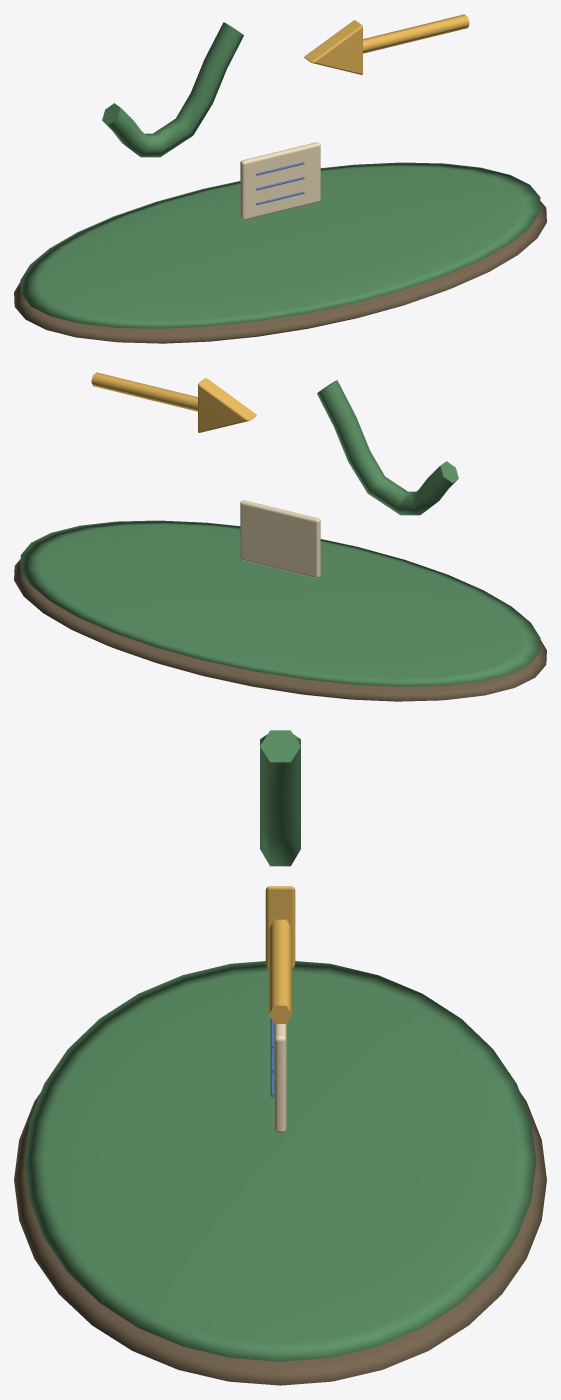
Rendered from complete-first-then-after.glb.
3 renders of one model, top to bottom at view 1: azimuth 30°, elevation 25°; view 2: azimuth 150°, elevation 25°; view 3: azimuth 270°, elevation 25°, orthographic. The views are drawn at different scales.
Visible parts, largest first — view 1: complete-first-then-after_surface_01, complete-first-then-after_surface_00, complete-first-then-after_surface_03, complete-first-then-after_surface_02, complete-first-then-after_surface_04; view 2: complete-first-then-after_surface_01, complete-first-then-after_surface_00, complete-first-then-after_surface_03, complete-first-then-after_surface_02; view 3: complete-first-then-after_surface_01, complete-first-then-after_surface_00, complete-first-then-after_surface_02, complete-first-then-after_surface_03.
Boxes of the visible parts, x1,y1,x2,y2 form: complete-first-then-after_surface_01: (20,22,540,328); complete-first-then-after_surface_00: (14,201,546,343); complete-first-then-after_surface_03: (240,142,320,220); complete-first-then-after_surface_02: (304,14,469,74); complete-first-then-after_surface_04: (256,162,304,204); complete-first-then-after_surface_01: (20,380,540,686); complete-first-then-after_surface_00: (14,559,546,701); complete-first-then-after_surface_03: (240,500,320,578); complete-first-then-after_surface_02: (91,372,256,432); complete-first-then-after_surface_01: (24,730,536,1361); complete-first-then-after_surface_00: (14,1092,546,1385); complete-first-then-after_surface_02: (265,886,295,1023); complete-first-then-after_surface_03: (274,1024,286,1133).
Bounding box in the file's own units: 4.56 × 2.23 × 2.5.
